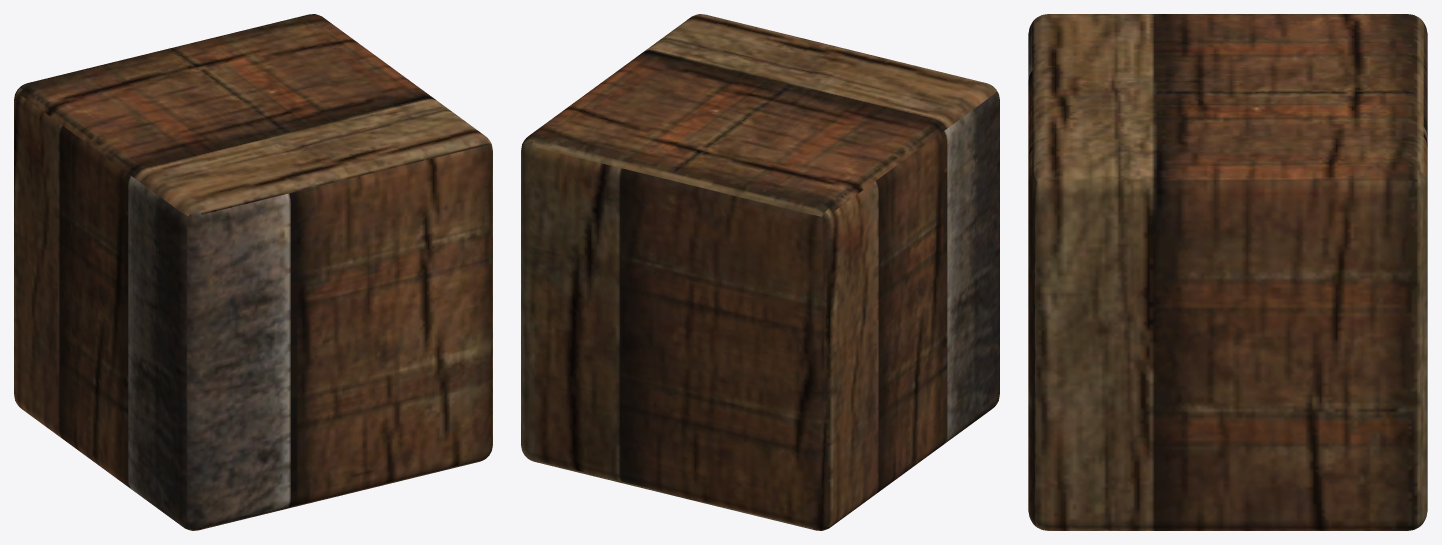
The model's file is demo_cube.obj.
3 renders of one model, left to right at view 1: azimuth 30°, elevation 25°; view 2: azimuth 150°, elevation 25°; view 3: azimuth 270°, elevation 25°, orthographic. The views are drawn at different scales.
Visible parts, largest first — view 1: Cube_Finished_Cube.001; view 2: Cube_Finished_Cube.001; view 3: Cube_Finished_Cube.001.
Part boxes in pixels (x1,y1,x2,y2): Cube_Finished_Cube.001: (14, 14, 492, 530); Cube_Finished_Cube.001: (521, 14, 999, 530); Cube_Finished_Cube.001: (1028, 14, 1427, 530).
Bounding box in the file's own units: 2 × 2 × 2.
Materials: 1 (1 with a texture image).
